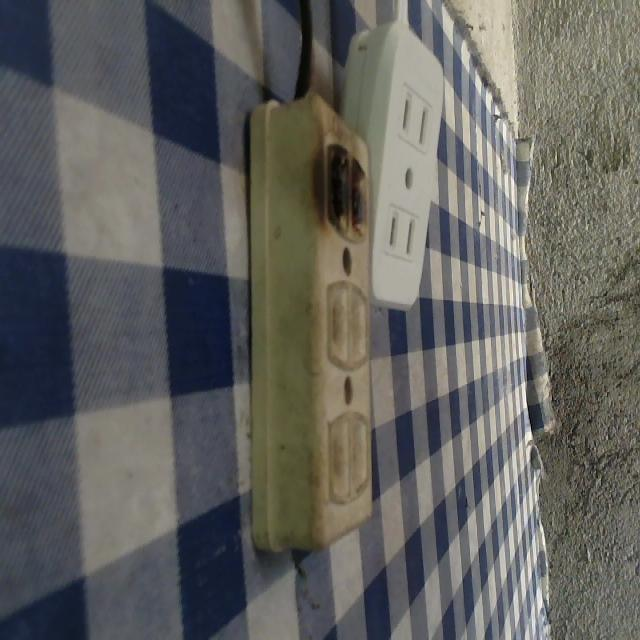-: (303, 132, 378, 247)
